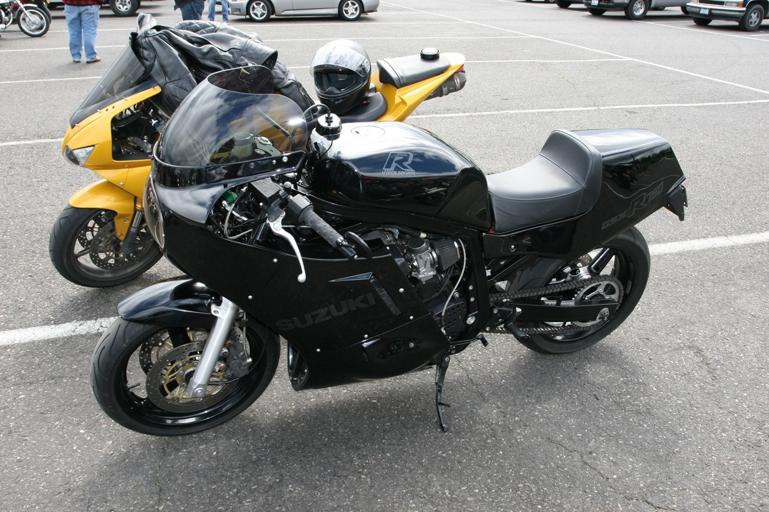non-vehicle: (89, 58, 689, 437), (46, 12, 469, 291), (0, 0, 51, 40)
